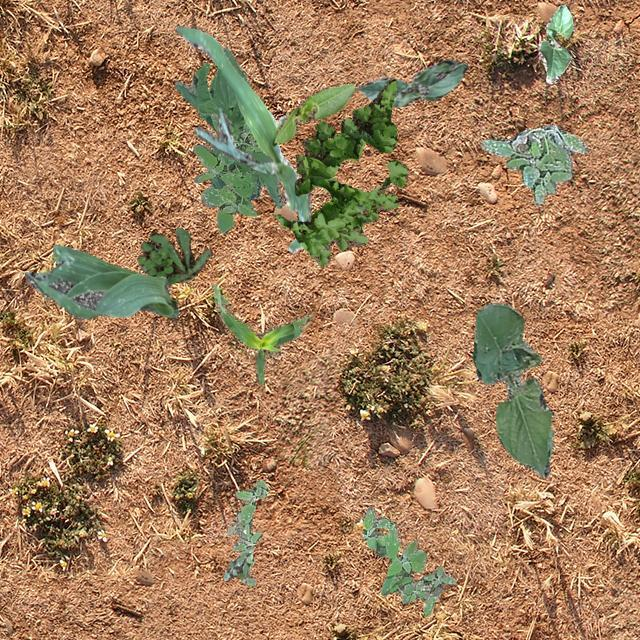crop: (174, 24, 310, 252), (174, 45, 284, 206), (472, 303, 554, 477), (24, 244, 178, 318), (210, 282, 312, 383), (356, 58, 466, 105), (274, 82, 354, 142), (536, 2, 574, 82)
weed: (274, 77, 406, 266), (362, 506, 454, 616), (480, 124, 586, 204), (192, 111, 260, 232), (136, 226, 212, 284), (225, 478, 268, 552), (222, 552, 254, 584)
